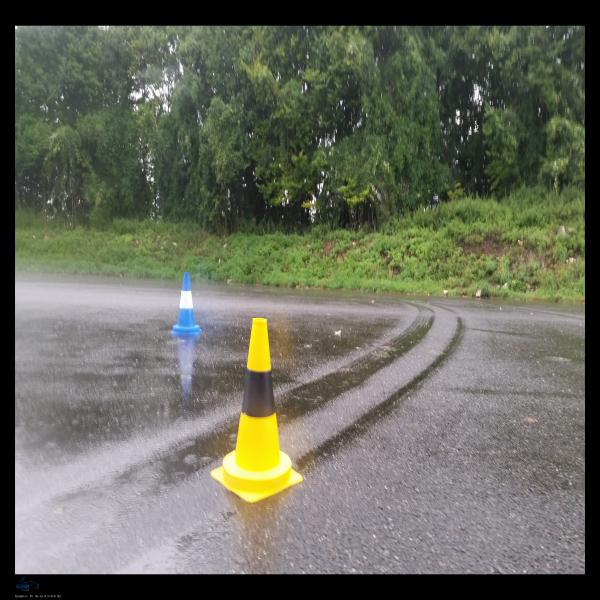blue_cone: (172, 273, 202, 336)
yellow_cone: (211, 318, 303, 502)
